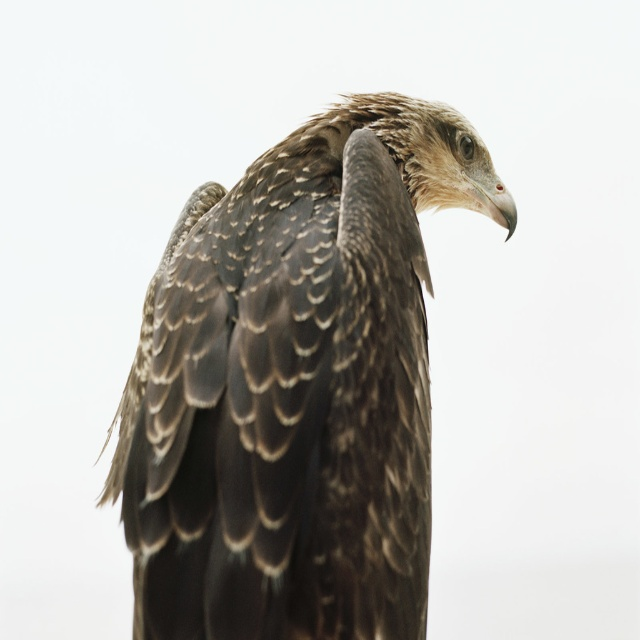Eagle: (93, 91, 517, 639)
